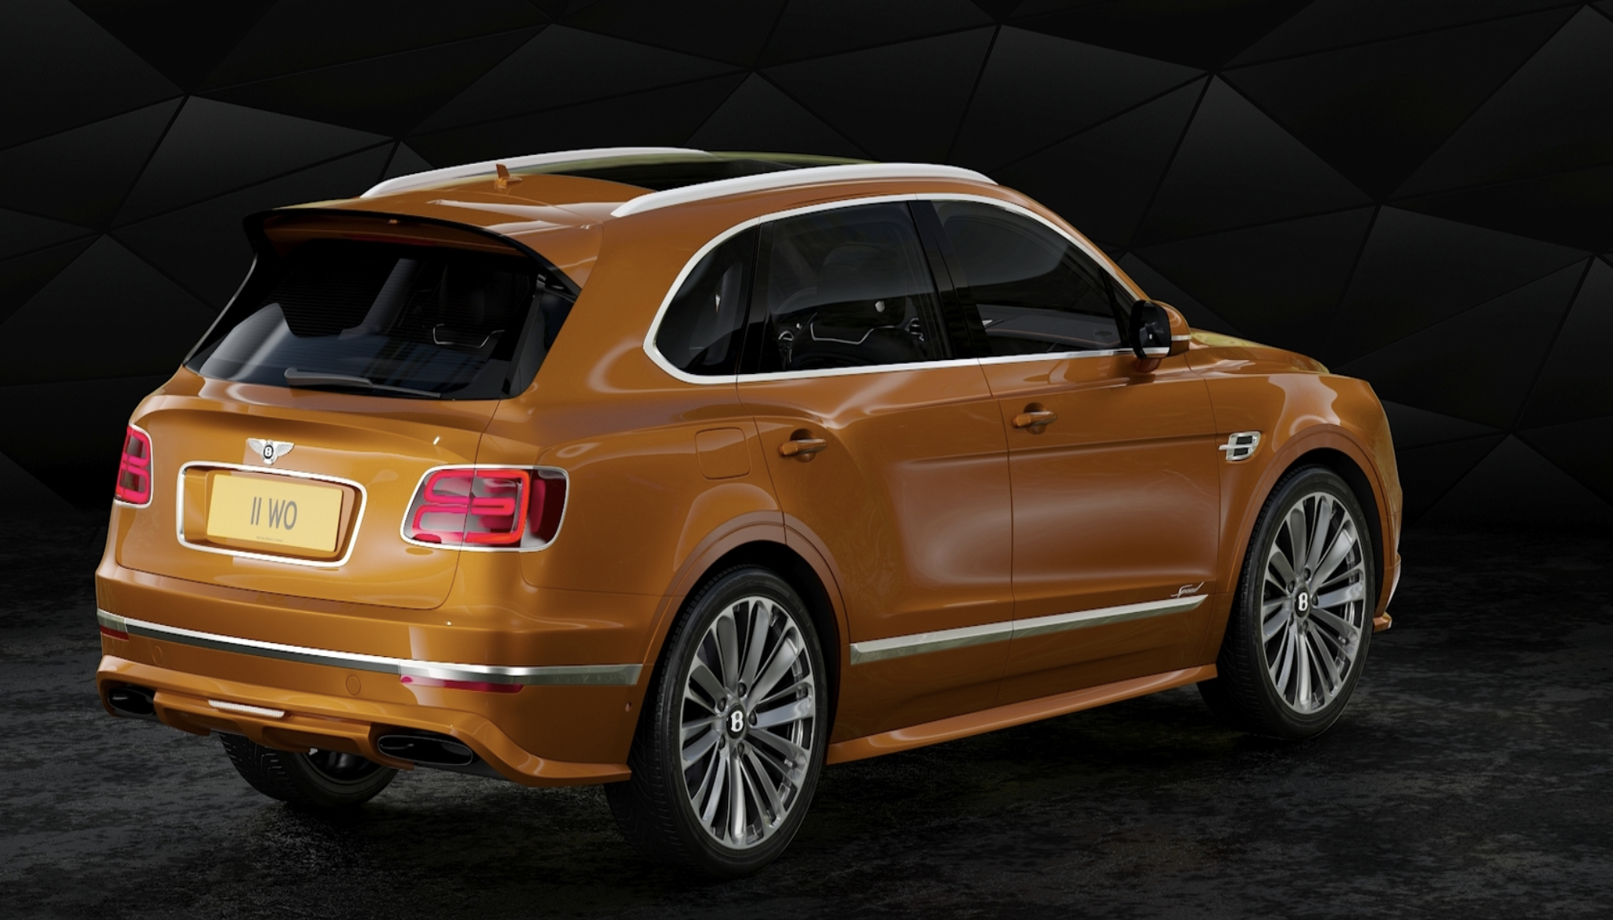hatch: (691, 419, 759, 490)
